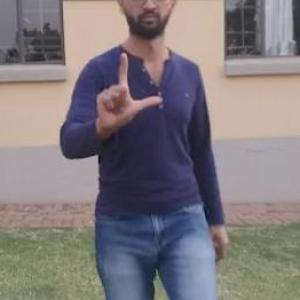land_hand: (92, 46, 167, 135)
